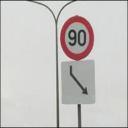speed_limit_90: (60, 14, 94, 62)
